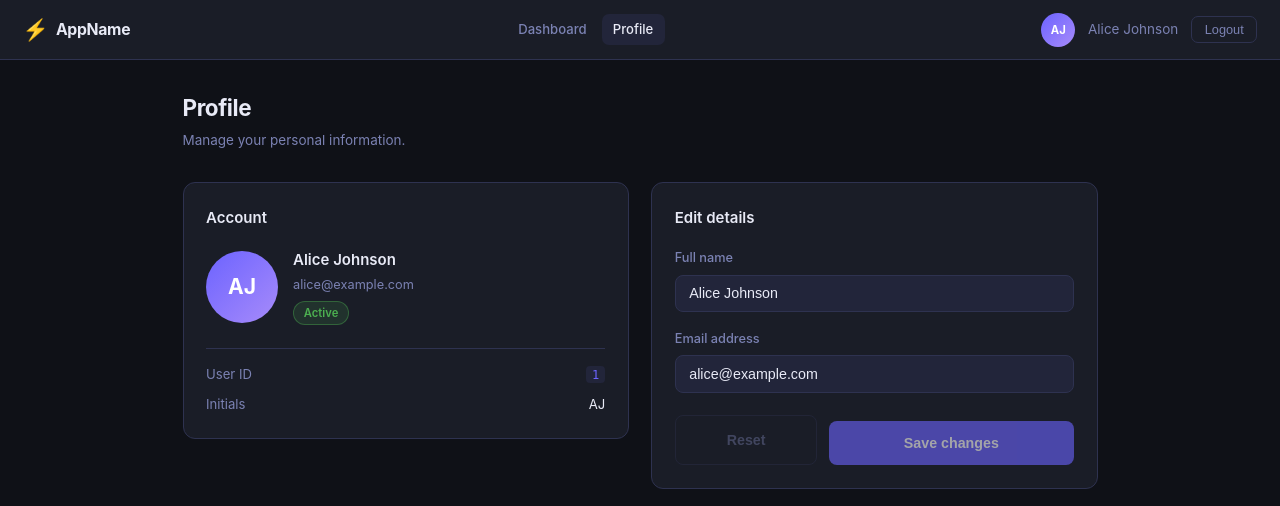
Test case: ProfilePage — reset › restores original values when Reset is clicked
The image size is (1280, 506).
Replace the text in the field labelled "Full name" with "Changed Name" at (874,293), box [675,275,1074,312]
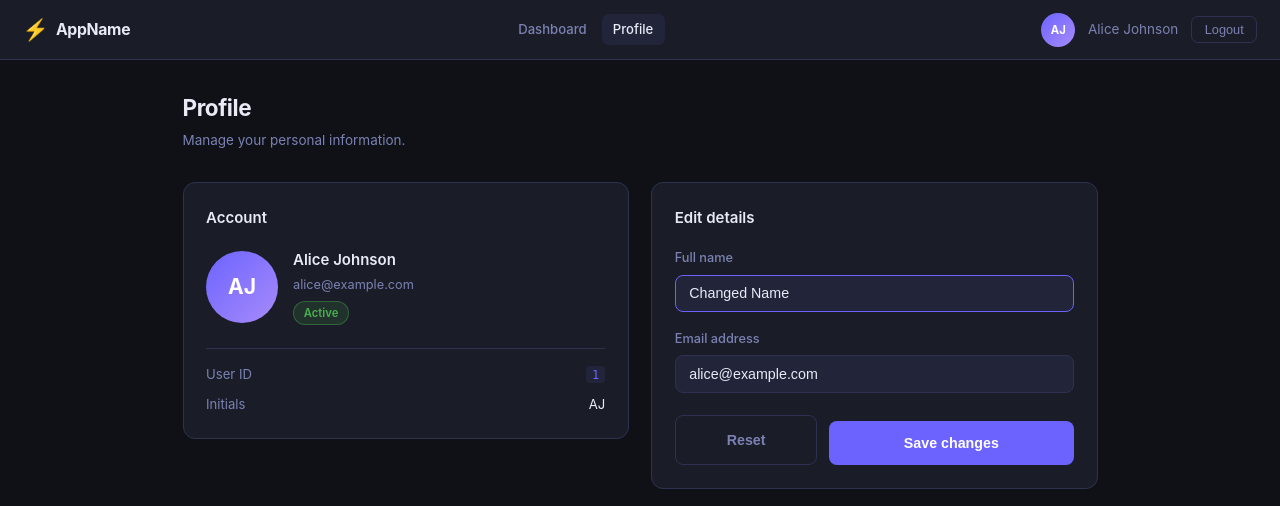
Click the button "Reset" at (746,440), box [675,415,818,465]
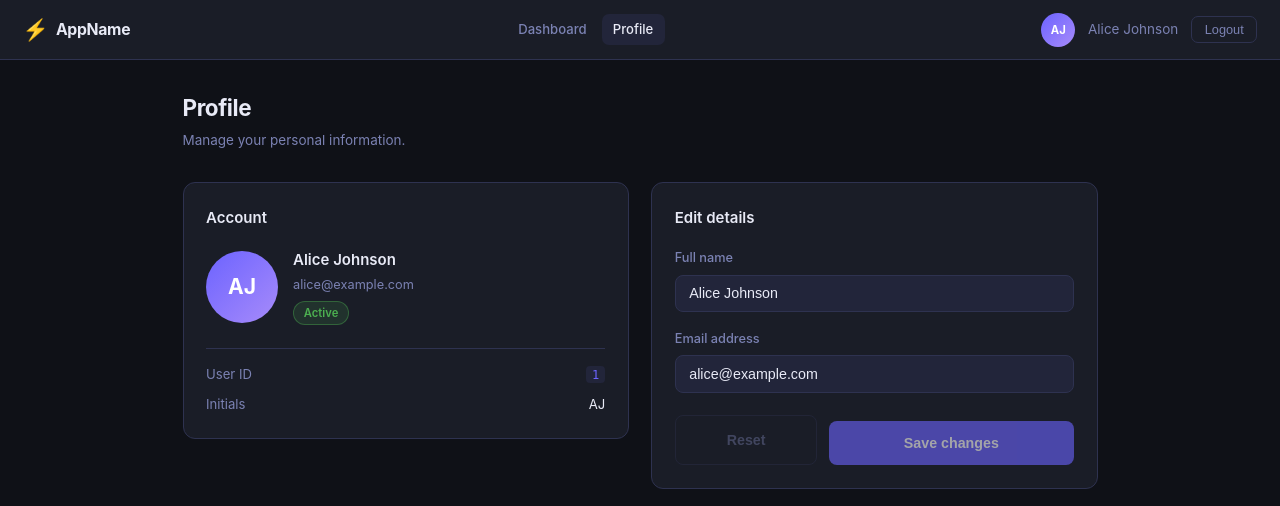
Expected: the field labelled "Full name" holds "Alice Johnson", [675,275,1074,312]
